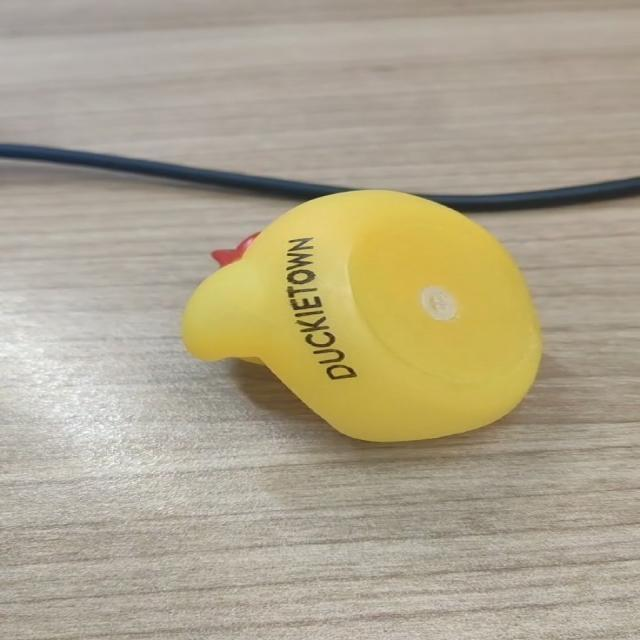rubber-duck: (182, 190, 539, 440)
